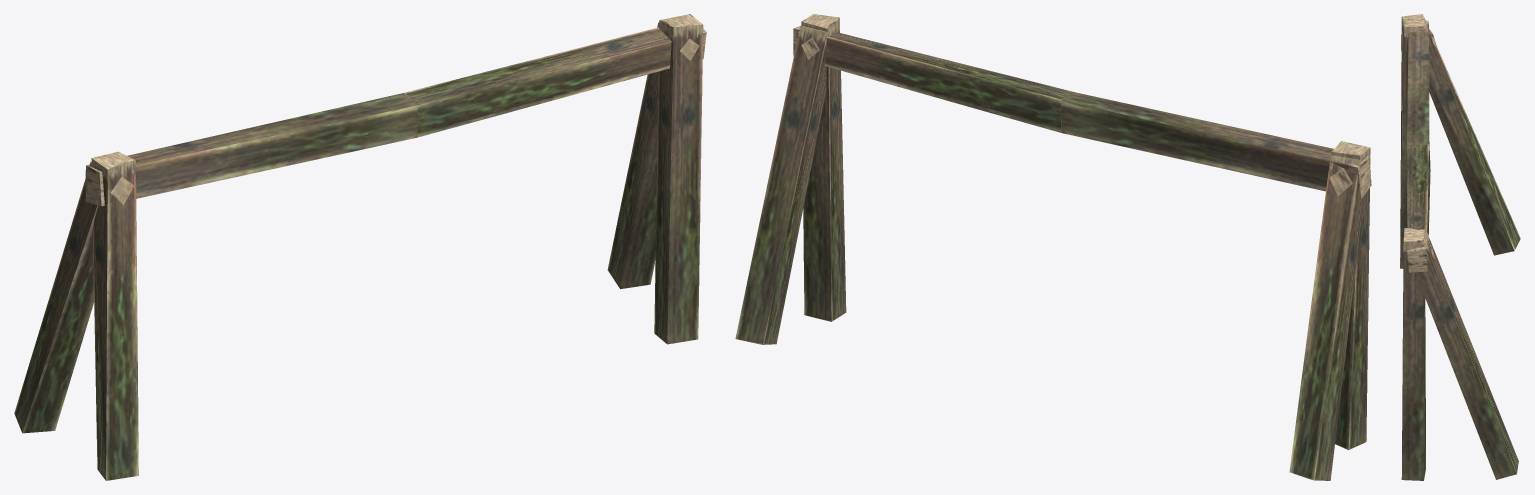
The model's file is C1WDFNCEENTERH.obj.
3 renders of one model, left to right at view 1: azimuth 30°, elevation 25°; view 2: azimuth 150°, elevation 25°; view 3: azimuth 270°, elevation 25°, orthographic. The views are drawn at different scales.
Parts seen in each view (by area): view 1: Node 0; view 2: Node 0; view 3: Node 0.
Boxes of the visible parts, x1,y1,x2,y2 form: Node 0: [14, 14, 706, 480]; Node 0: [735, 14, 1371, 480]; Node 0: [1400, 14, 1520, 480].
Bounding box in the file's own units: 22.73 × 10.94 × 4.92.
Materials: 1 (1 with a texture image).
